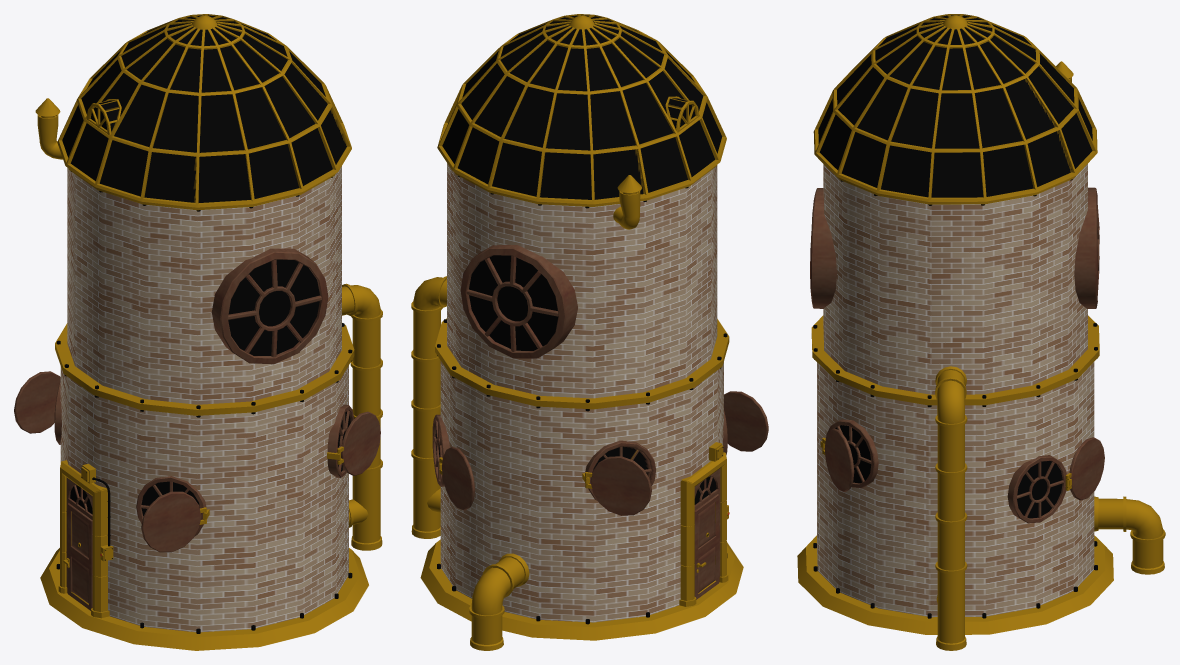
The model's file is Molino.obj.
3 renders of one model, left to right at view 1: azimuth 30°, elevation 25°; view 2: azimuth 150°, elevation 25°; view 3: azimuth 270°, elevation 25°, orthographic. The views are drawn at different scales.
Visible parts, largest first — view 1: casa_Material.004; view 2: casa_Material.004; view 3: casa_Material.004.
Boxes of the visible parts, left/top/right/bottom form: casa_Material.004: left=14, top=14, right=382, bottom=650; casa_Material.004: left=411, top=14, right=768, bottom=650; casa_Material.004: left=797, top=14, right=1165, bottom=650.
Size of the model in its own units: 11.31 by 19.44 by 11.74.
